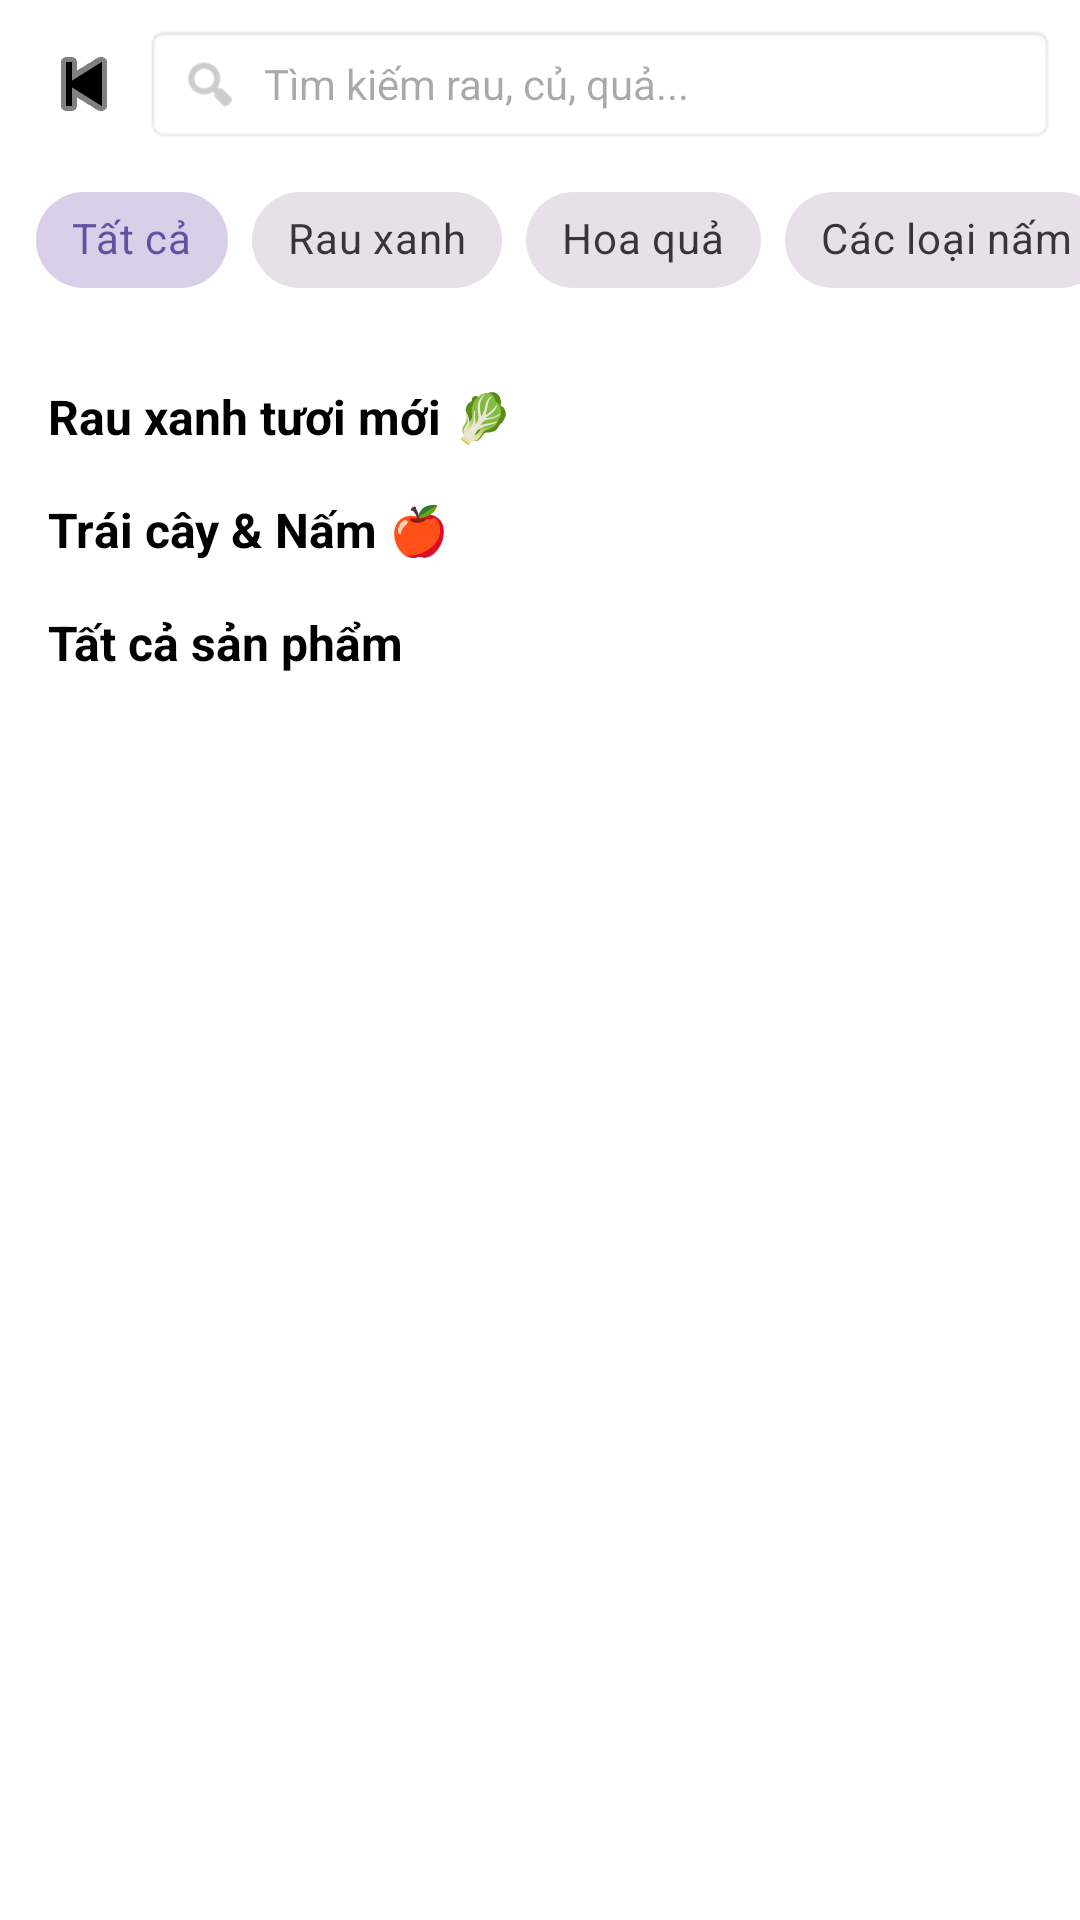

Icons on this 1080×1920 Android screen, each with its box as (x1, y1, x2, y2):
previous: (61, 57, 107, 111)
search: (188, 62, 232, 106)
